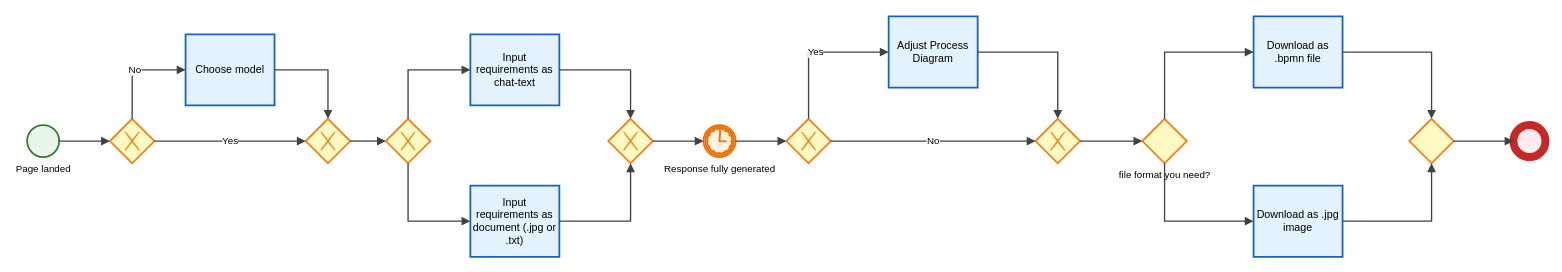
Image size: 1562x272. Some labels were removed from this diagram. Here are the shapes that lost their labels. From the top down, the centre of each, then its label:
At pixel 132 140: "Progress with default setting?".
At pixel 407 140: "Choose input mode".
At pixel 808 140: "Need adjustment?".
At pixel 1529 140: "Done".
